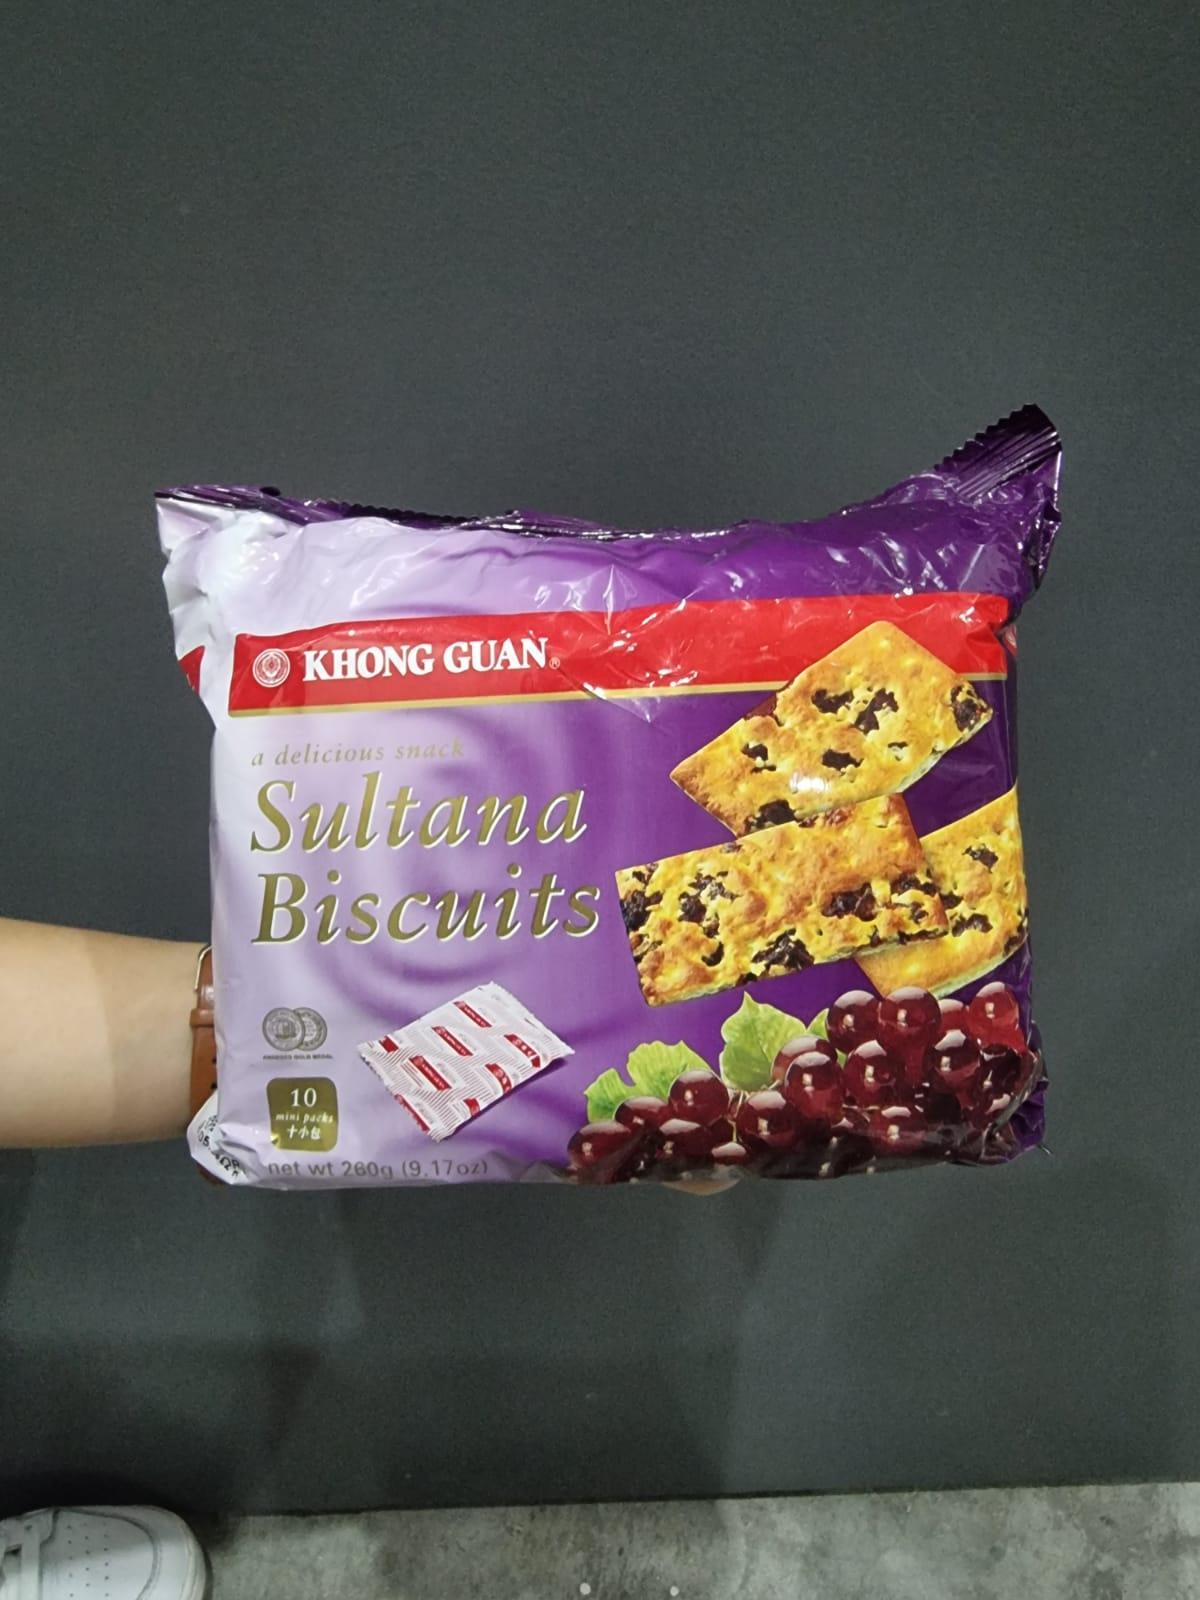Biscuits: (228, 559, 1036, 1177)
